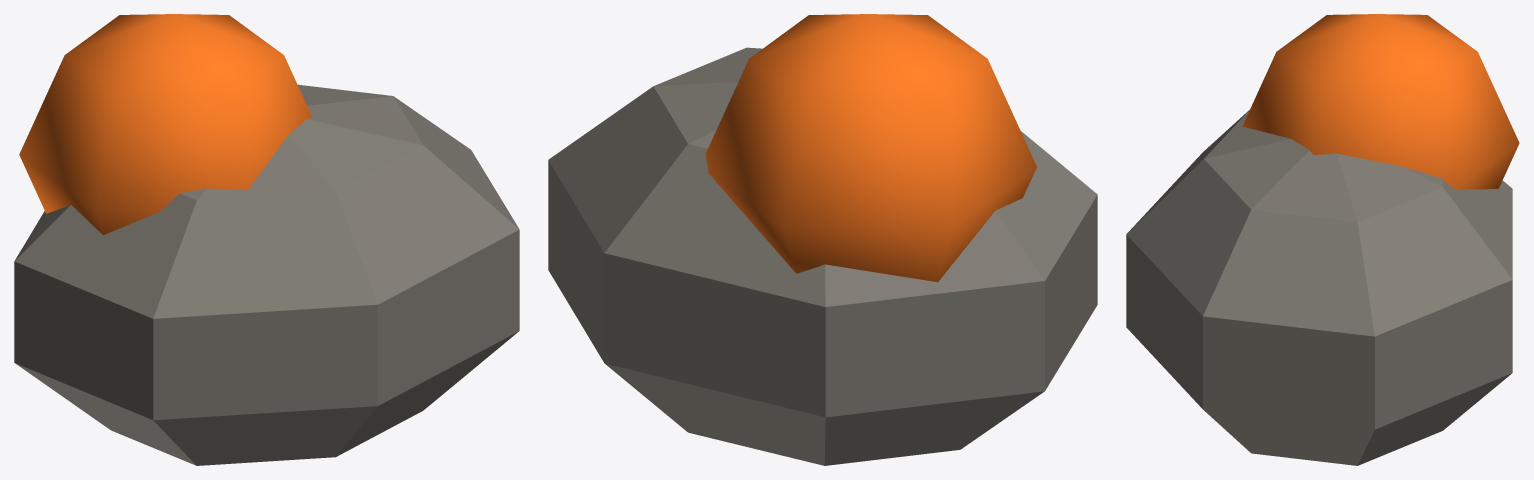
File: fx_hot_stone.fbx
The picture shows the model from 3 angles, left to right: view 1: azimuth 30°, elevation 25°; view 2: azimuth 150°, elevation 25°; view 3: azimuth 270°, elevation 25°; orthographic projection. The views are drawn at different scales.
Parts seen in each view (by area): view 1: Prop; view 2: Prop; view 3: Prop.
Boxes of the visible parts, x1,y1,x2,y2 form: Prop: (14,14,519,465); Prop: (548,14,1097,465); Prop: (1126,14,1519,465).
Size of the model in its own units: 0.204 by 0.1656 by 0.18.
